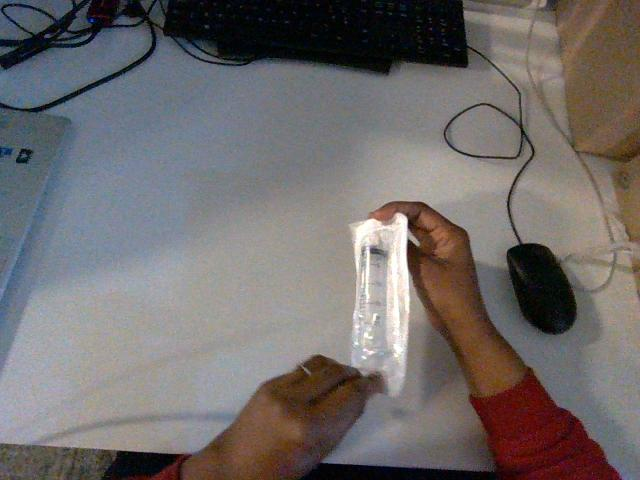syringe: (350, 213, 409, 395)
